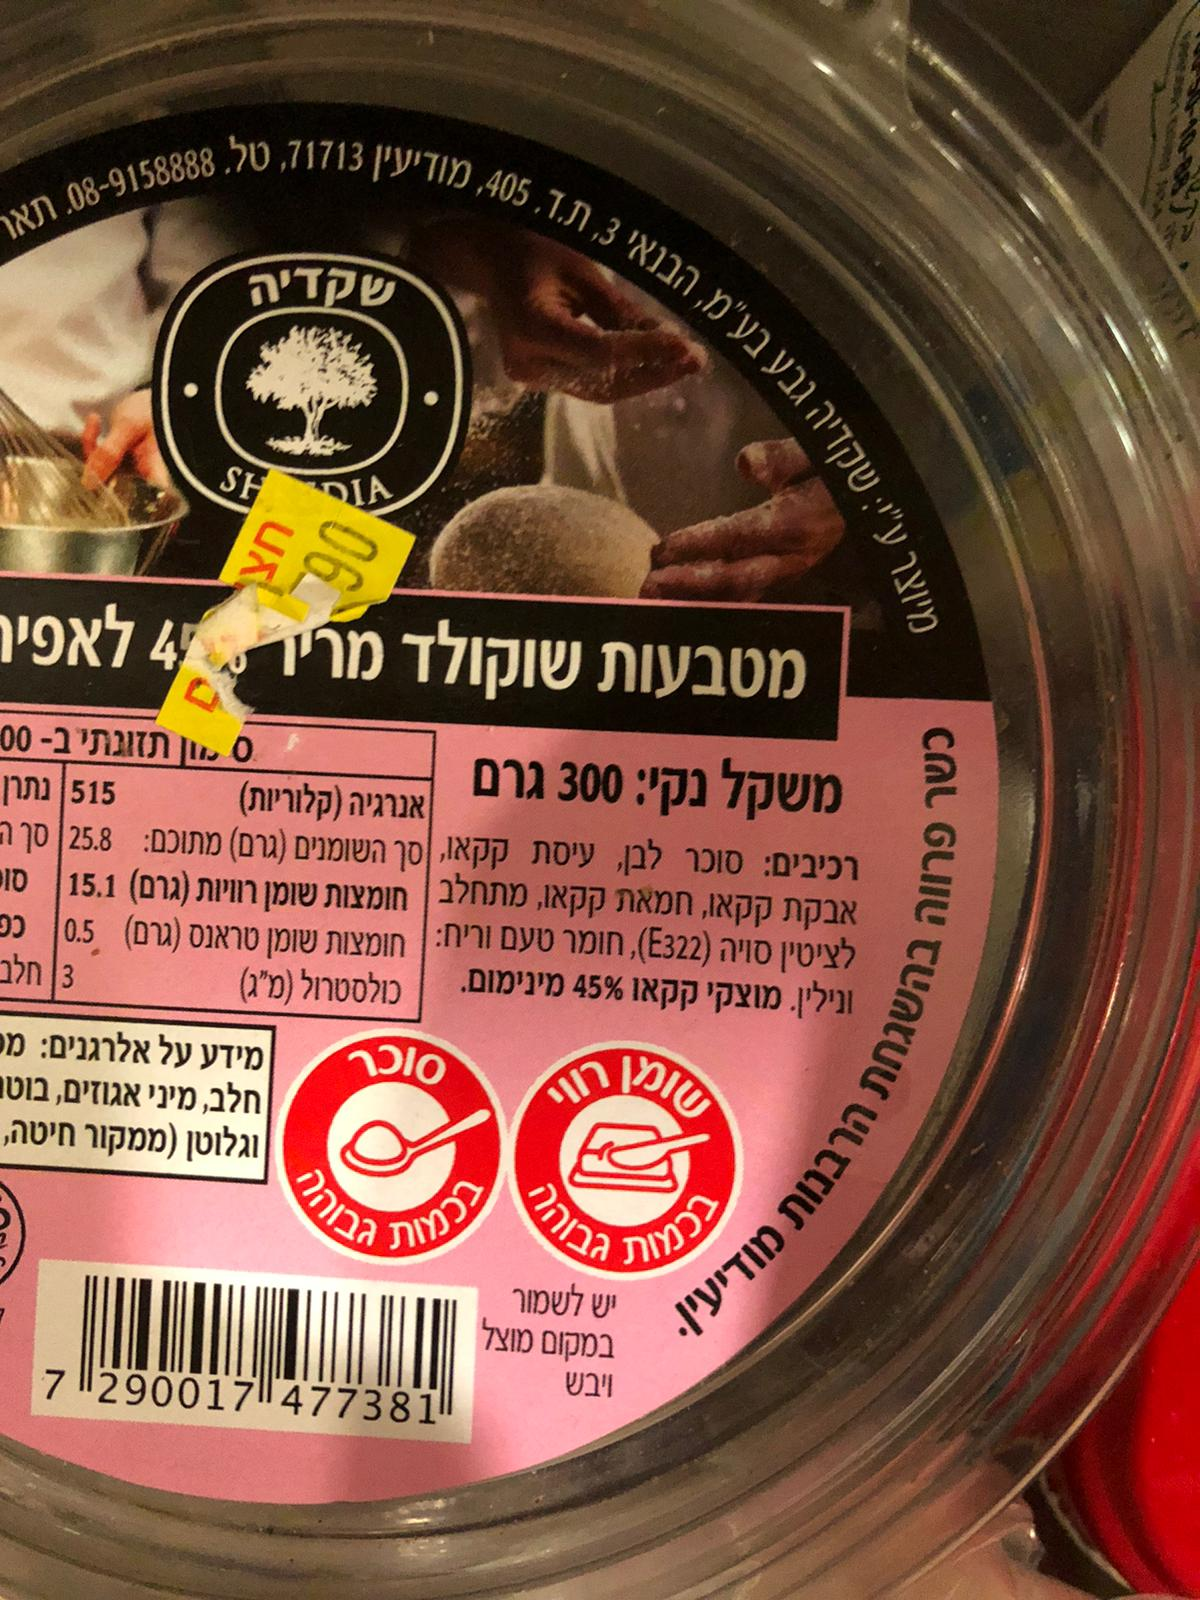fat: (509, 1041, 742, 1277)
sugar: (272, 1026, 511, 1264)
